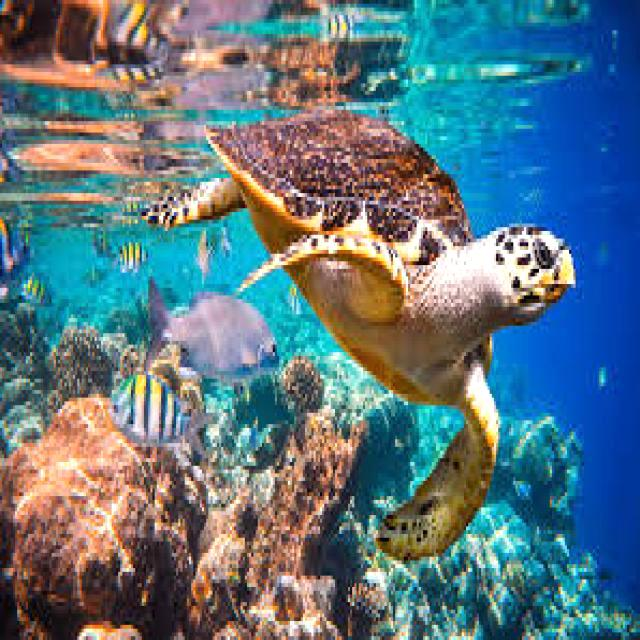Sea turtle: (146, 106, 576, 564)
